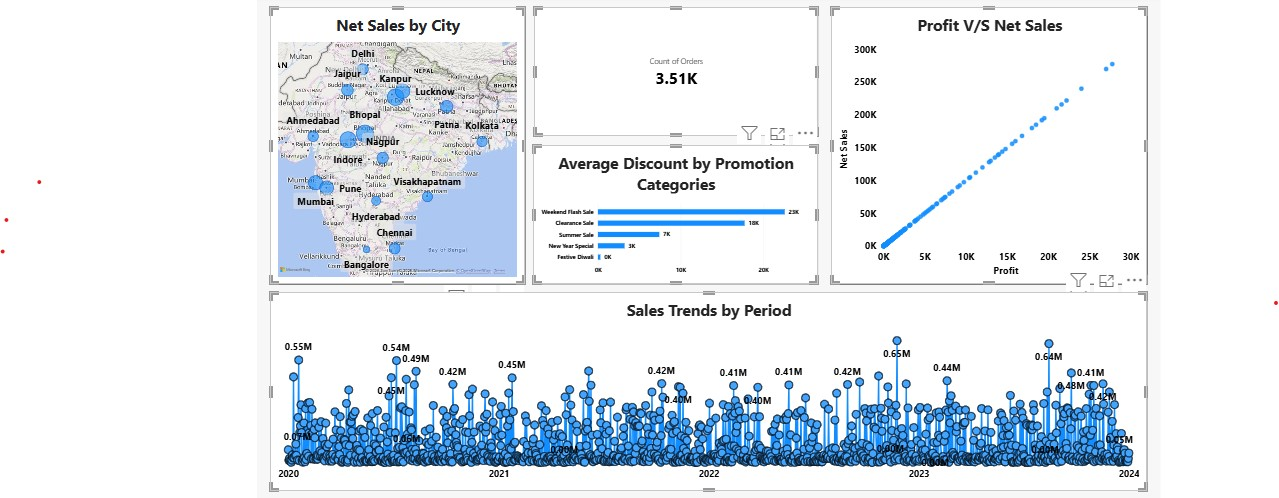

The dashboard page shown, as its layout file describes it:
{"tool":"powerbi","page":{"name":"Overview","canvas":[1920,1080],"ordinal":0},"visuals":[{"type":"lineChart","title":"Sales Trends by Period","fields":{"Category":["Fact Table.Date (dd/mm/yyyy).Variation.Date Hierarchy.Year"],"Y":["Sum(Fact Table.Net Sales)"]},"box":[27.5,630,1865,422.5],"z":0},{"type":"scatterChart","title":"Profit V/S Net Sales","fields":{"X":["Fact Table.Profit"],"Y":["Fact Table.Net Sales"]},"box":[1220,22.5,672.5,590],"z":1},{"type":"barChart","title":"Average Discount by Promotion Categories","fields":{"Category":["Dim Promotion.Promotion Name"],"Y":["Avg(Fact Table.Discount )"]},"box":[586.8,316.8,605.9,295.5],"z":2},{"type":"map","fields":{"Category":["Dim Customers.City"],"Size":["Sum(Fact Table.Net Sales)"]},"box":[27.5,22.5,542.5,590],"z":3},{"type":"cardVisual","fields":{"Data":["Count(Fact Table.Order ID)"]},"box":[588.9,23.4,603.8,274.3],"z":4}]}

Visuals, with their boxes on the page's 1920x1080 design canvas (x1, y1, x2, y2). These are canvas units, not pixel positions in the 1279x498 screenshot, which may show the page scaled, cropped or inside an application window:
"Sales Trends by Period" lineChart: detection(28, 630, 1892, 1052)
"Profit V/S Net Sales" scatterChart: detection(1220, 22, 1892, 612)
"Average Discount by Promotion Categories" barChart: detection(587, 317, 1193, 612)
map - Dim Customers.City x Sum(Fact Table.Net Sales): detection(28, 22, 570, 612)
cardVisual - Count(Fact Table.Order ID): detection(589, 23, 1193, 298)
